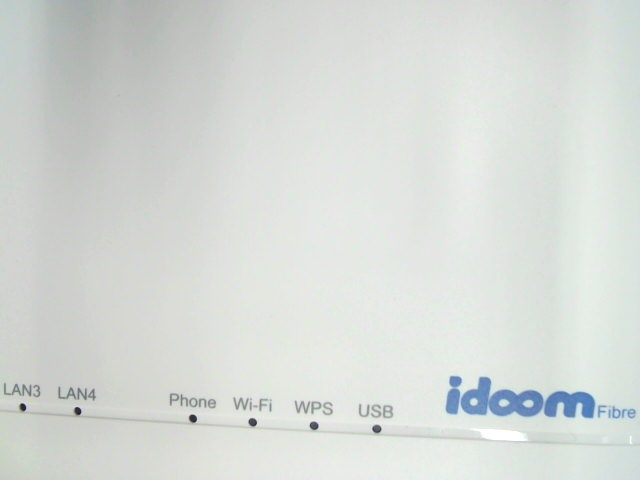BB_idoom: (442, 371, 637, 422)
